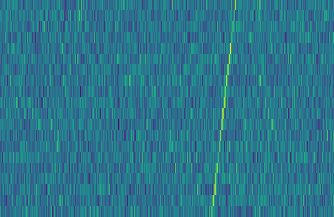signal: (208, 0, 241, 217)
